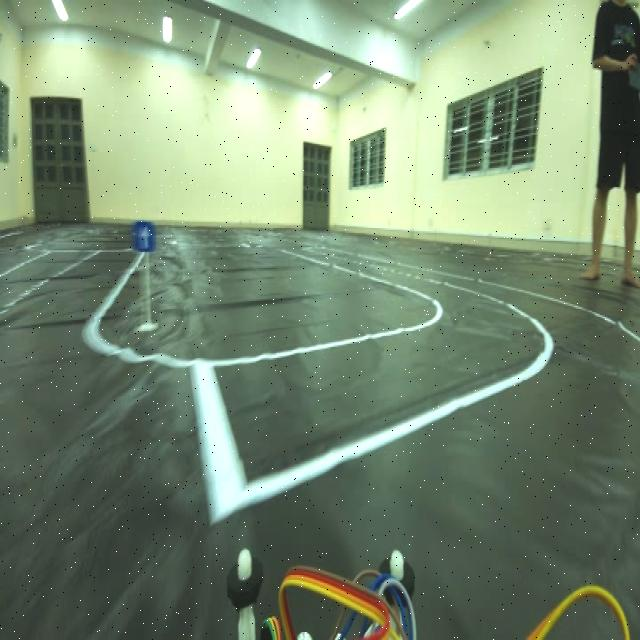onewayroad: (134, 212, 160, 265)
